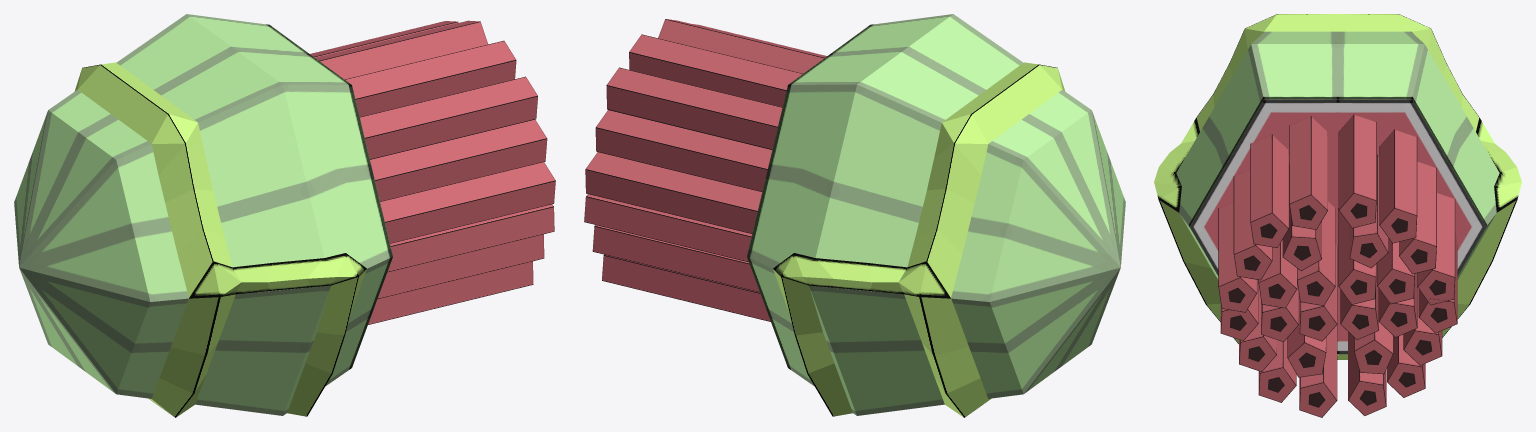
The model's file is Watermelon.fbx.
3 renders of one model, left to right at view 1: azimuth 30°, elevation 25°; view 2: azimuth 150°, elevation 25°; view 3: azimuth 270°, elevation 25°, orthographic. The views are drawn at different scales.
Parts seen in each view (by area): view 1: Watermelon, Cannon, Leaf.001; view 2: Watermelon, Cannon, Leaf.001; view 3: Cannon, Watermelon, Leaf.001.
Part boxes in pixels (<box>): Watermelon: <box>14,14,392,415</box>; Cannon: <box>310,20,555,324</box>; Leaf.001: <box>74,62,366,417</box>; Watermelon: <box>747,14,1125,415</box>; Cannon: <box>584,19,826,321</box>; Leaf.001: <box>773,62,1065,417</box>; Cannon: <box>1218,114,1457,417</box>; Watermelon: <box>1176,31,1499,354</box>; Leaf.001: <box>1154,14,1521,359</box>.
Size of the model in its own units: 2.82 by 1.94 by 2.12.
Materials: 3 (3 with a texture image).
